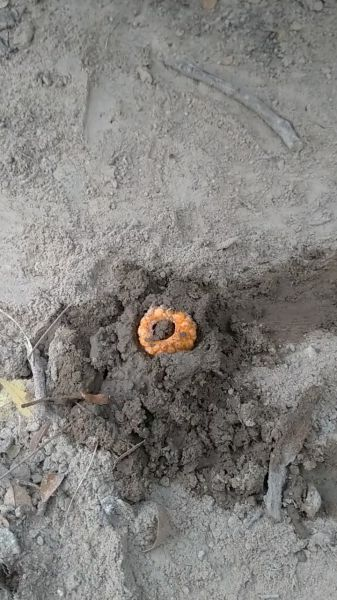eggs: (131, 301, 203, 360)
